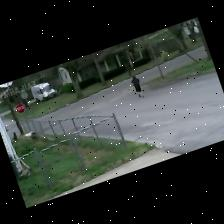person: (131, 77, 143, 97)
